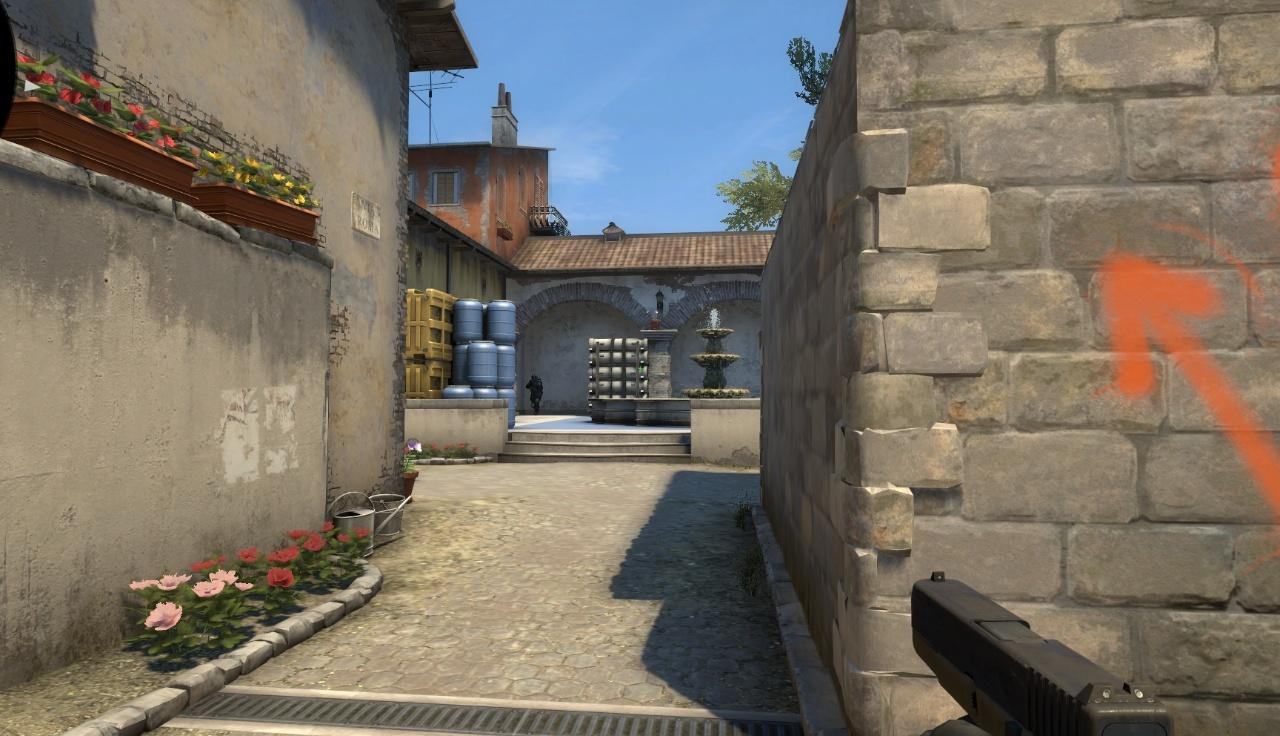ct: (529, 374, 542, 415)
cthead: (532, 375, 539, 383)
pistol: (906, 569, 1175, 736)
